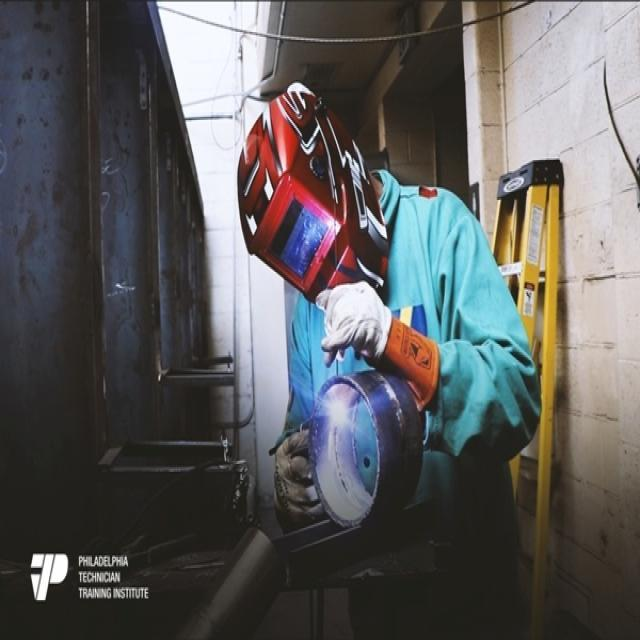with_helmet: (239, 83, 389, 300)
